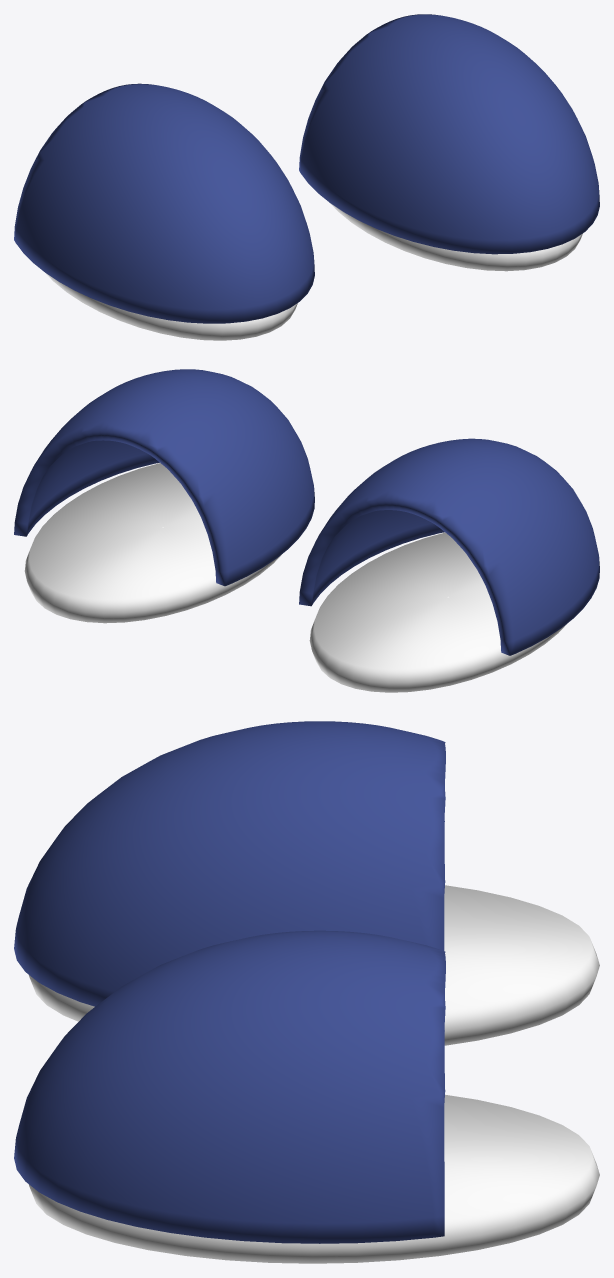
File: slides2.fbx
3 renders of one model, top to bottom at view 1: azimuth 30°, elevation 25°; view 2: azimuth 150°, elevation 25°; view 3: azimuth 270°, elevation 25°, orthographic. The views are drawn at different scales.
Visible parts, largest first — view 1: slides2; view 2: slides2; view 3: slides2.
Boxes of the visible parts, x1,y1,x2,y2 form: slides2: (14,14,599,340); slides2: (14,369,599,692); slides2: (14,721,599,1263).
Size of the model in its own units: 0.6413 by 0.194 by 0.4184.
